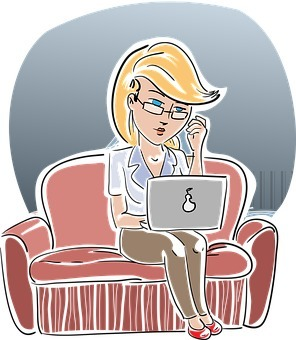person: (95, 35, 223, 338)
sofa: (1, 150, 284, 331)
